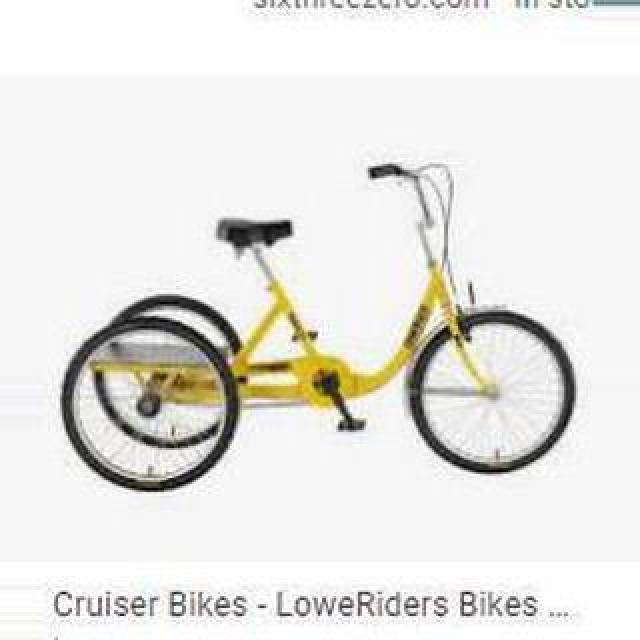Person: (61, 165, 579, 497)
